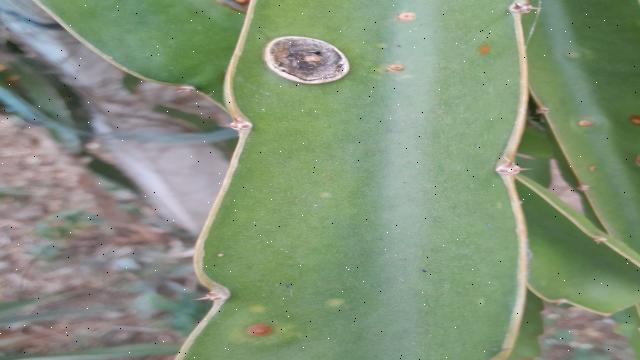stemcanker: (242, 320, 278, 340), (476, 39, 496, 63), (393, 8, 421, 24), (572, 115, 596, 131), (616, 113, 640, 128), (383, 61, 406, 75)
